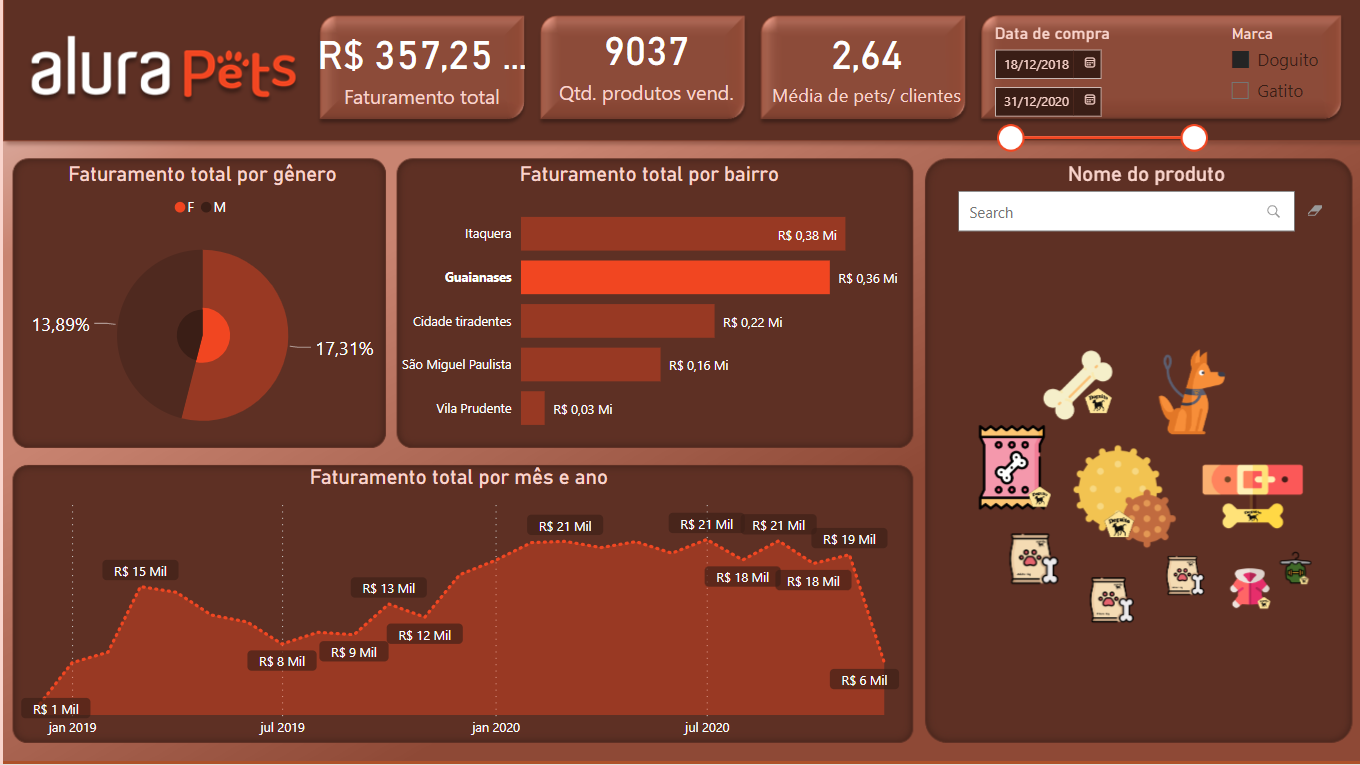

The page's visual inventory and layout, read from the dashboard file:
{"tool":"powerbi","page":{"name":"Página 1","canvas":[1280,720],"ordinal":0},"visuals":[{"type":"card","fields":{"Values":["Vendas.Faturamento total"]},"box":[289.3,0,209.8,120.8],"z":0},{"type":"card","fields":{"Values":["Avg(Clientes.Pets)"]},"box":[718.4,3.2,190.7,114.4],"z":1000},{"type":"card","fields":{"Values":["Sum(Vendas.Quantidade)"]},"box":[513.4,3.2,186,108.1],"z":2000},{"type":"pieChart","title":"Faturamento total por gênero","fields":{"Category":["Clientes.Gênero"],"Y":["Vendas.Faturamento total"]},"box":[3.2,152.6,370.3,275],"z":3000},{"type":"clusteredBarChart","title":"Faturamento total por bairro","fields":{"Category":["Clientes.Bairro"],"Y":["Vendas.Faturamento total"]},"box":[362.4,152.6,494.3,270.2],"z":4000},{"type":"areaChart","title":"Faturamento total por mês e ano","fields":{"Category":["Vendas.Data de compra.Variation.Hierarquia de datas.Ano","Vendas.Data de compra.Variation.Hierarquia de datas.Trimestre","Vendas.Data de compra.Variation.Hierarquia de datas.Mês","Vendas.Data de compra.Variation.Hierarquia de datas.Dia"],"Y":["Vendas.Faturamento total"]},"box":[3.2,438.7,853.5,265.4],"z":5000},{"type":"ImageGrid_FC5183B9_926C_45E0_B5F7_0CE9EAF1DA9B","fields":{"ImageURLHQ":["Produtos.Url img"]},"box":[878.9,227.3,381.5,462.5],"z":6000},{"type":"textFilter25A4896A83E0487089E2B90C9AE57C8A","title":"Nome do produto","fields":{"field":["Produtos.Nome produto"]},"box":[894.8,152.6,365.6,74.7],"z":7000},{"type":"slicer","fields":{"Values":["Produtos.Marca"]},"box":[1144.4,19.1,116,90],"z":8000},{"type":"slicer","fields":{"Values":["Vendas.Data de compra"]},"box":[921.9,17.5,222.5,154.2],"z":9000}]}

Visuals, with their boxes in screenshot pixels (x1, y1, x2, y2), scaled from the page's 1280x720 canvas onto the 1360x765 screenshot:
card - Vendas.Faturamento total: pyautogui.locateOnScreen(307, 0, 530, 128)
card - Avg(Clientes.Pets): pyautogui.locateOnScreen(763, 3, 966, 125)
card - Sum(Vendas.Quantidade): pyautogui.locateOnScreen(545, 3, 743, 118)
"Faturamento total por gênero" pieChart: pyautogui.locateOnScreen(3, 162, 397, 454)
"Faturamento total por bairro" clusteredBarChart: pyautogui.locateOnScreen(385, 162, 910, 449)
"Faturamento total por mês e ano" areaChart: pyautogui.locateOnScreen(3, 466, 910, 748)
ImageGrid_FC5183B9_926C_45E0_B5F7_0CE9EAF1DA9B - Produtos.Url img: pyautogui.locateOnScreen(934, 242, 1339, 733)
"Nome do produto" textFilter25A4896A83E0487089E2B90C9AE57C8A: pyautogui.locateOnScreen(951, 162, 1339, 242)
slicer - Produtos.Marca: pyautogui.locateOnScreen(1216, 20, 1339, 116)
slicer - Vendas.Data de compra: pyautogui.locateOnScreen(980, 19, 1216, 182)
